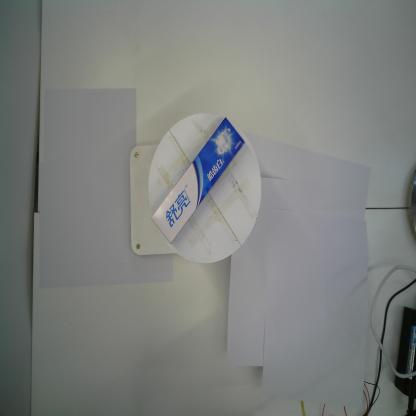Personal Hygiene: (150, 118, 245, 242)
